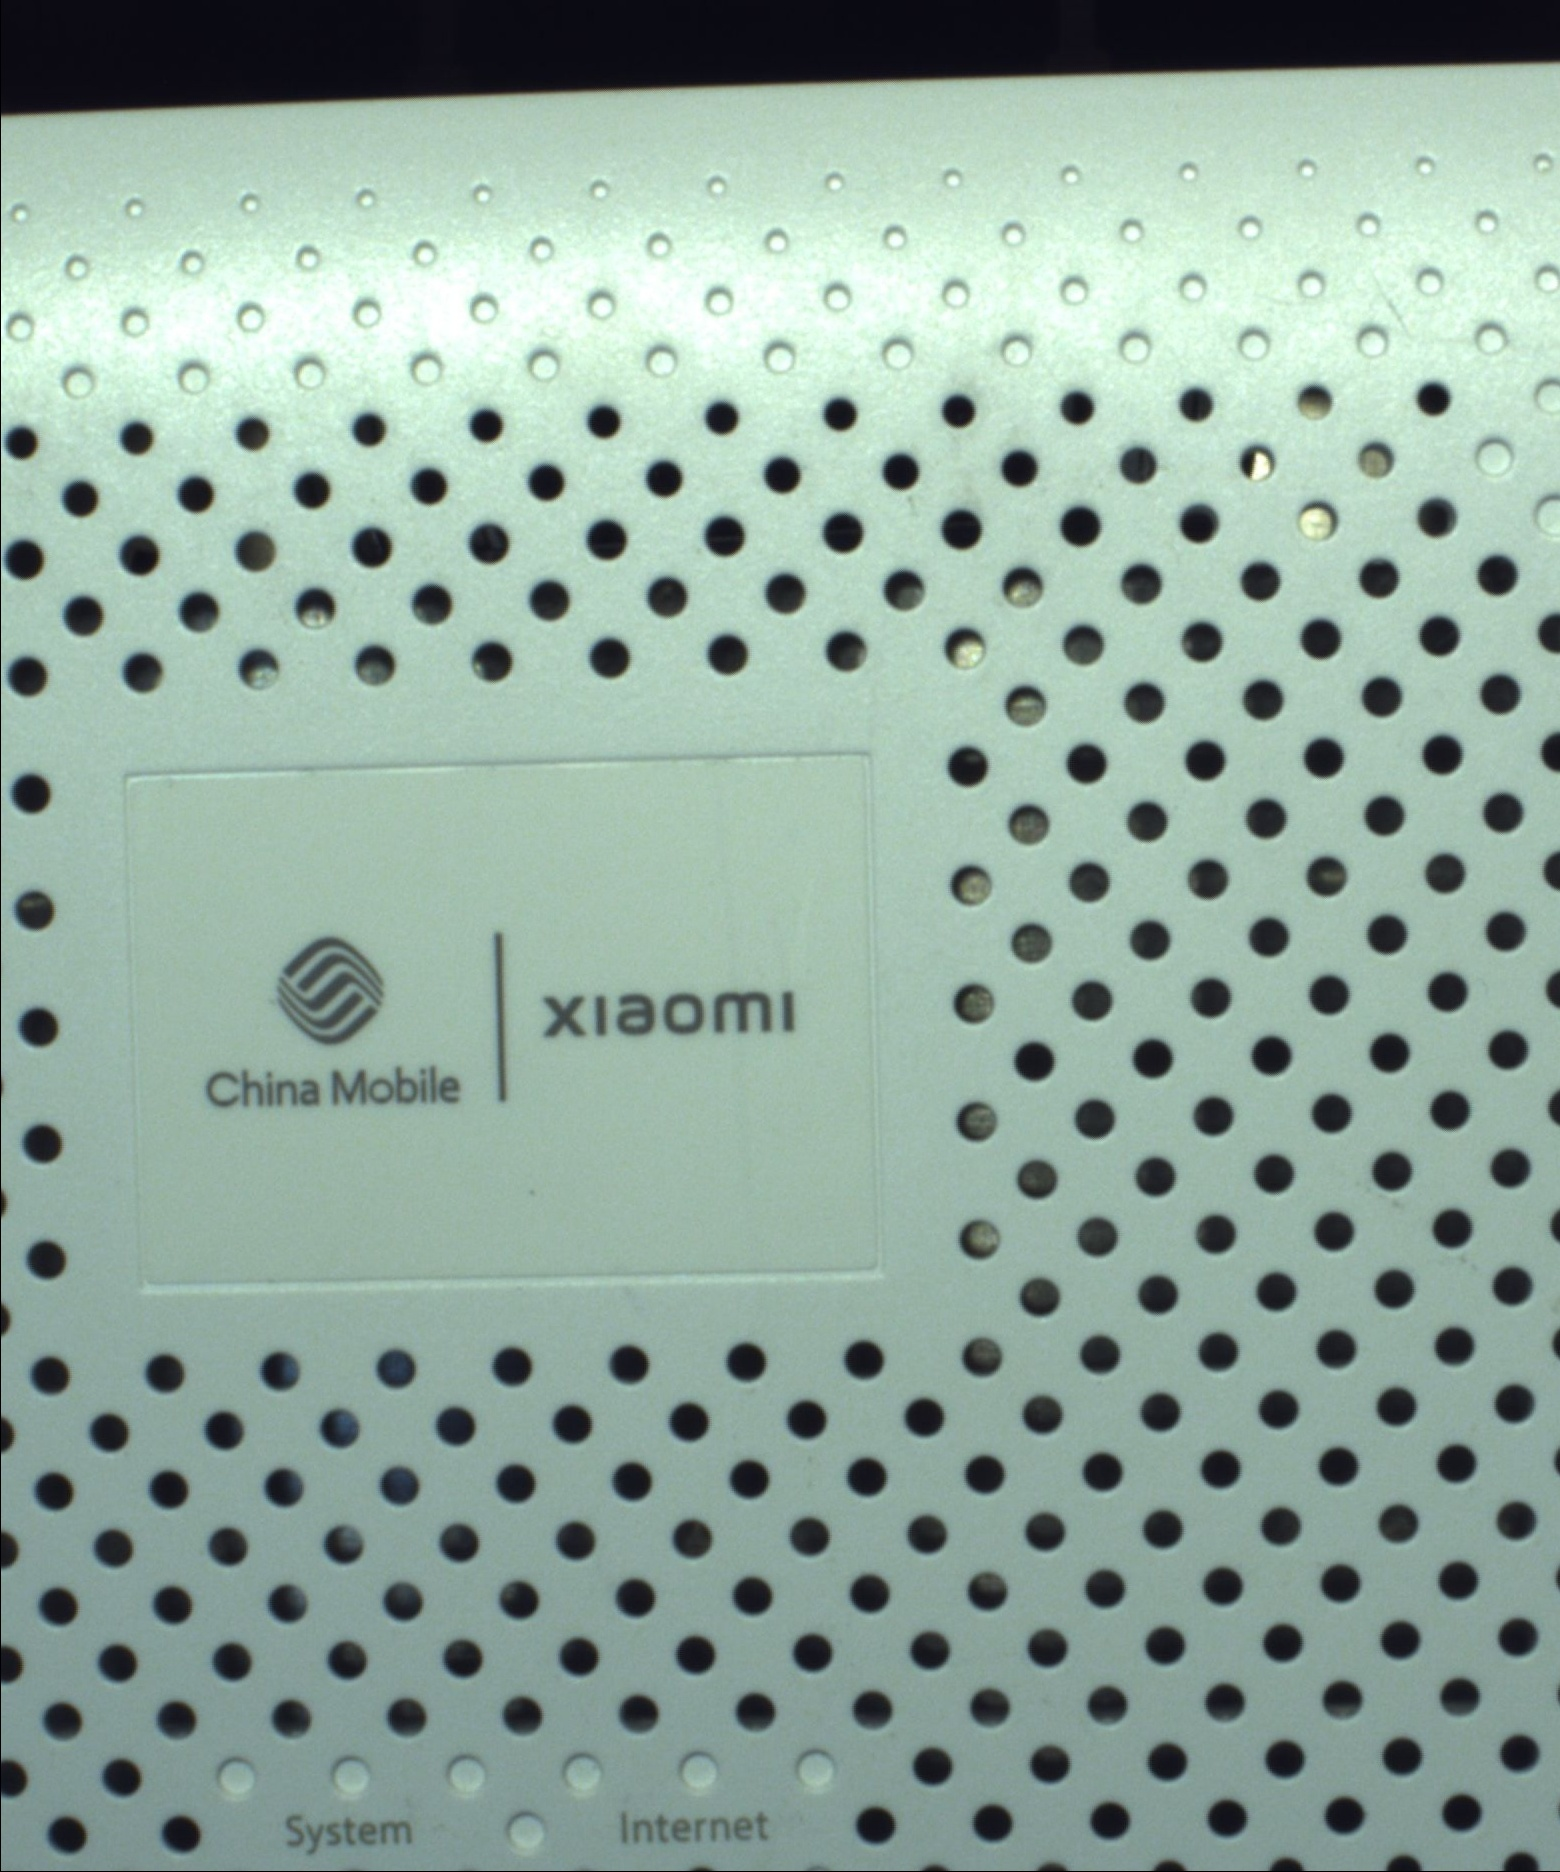MAD_ChinaMobile: (184, 933, 799, 1121)
